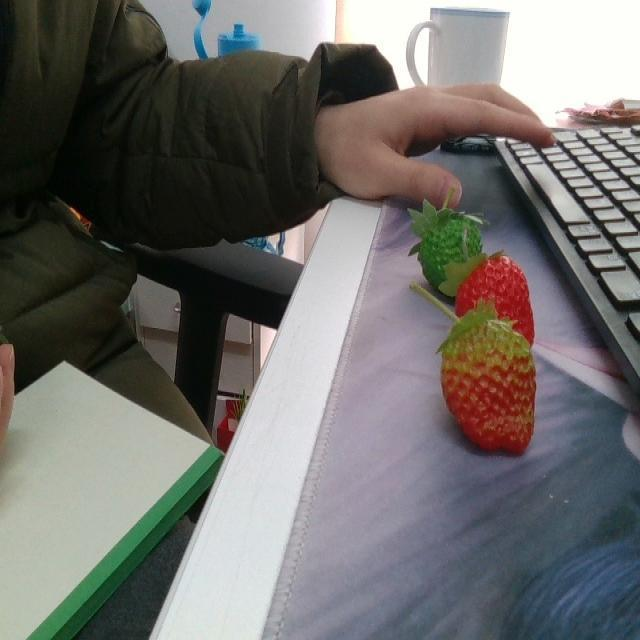ripe: (452, 256, 540, 343)
unripe: (441, 322, 536, 456), (421, 212, 484, 294)
